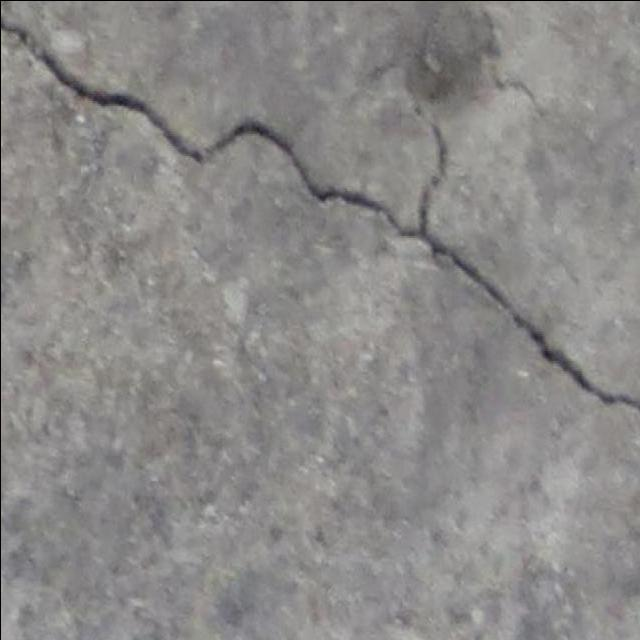Crack: (1, 7, 639, 421)
